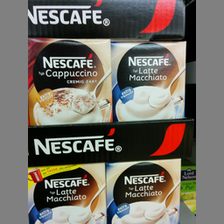chocolate: (29, 38, 112, 124), (113, 39, 188, 122), (107, 160, 179, 224), (28, 165, 105, 223)
